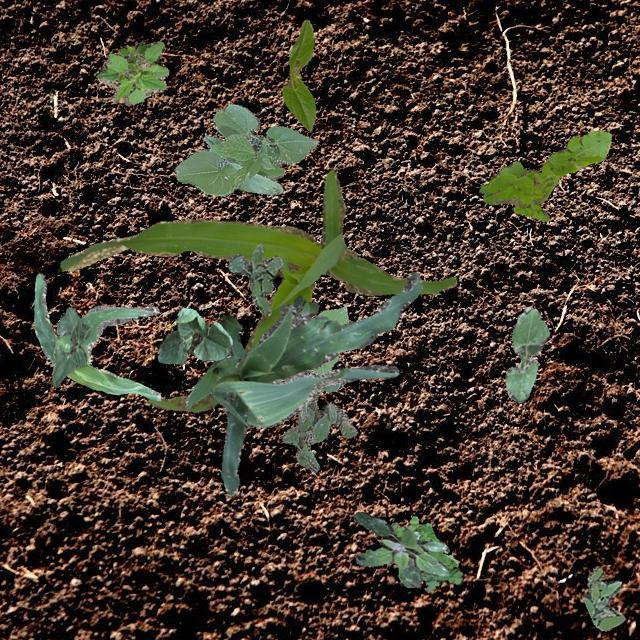crop: (59, 168, 456, 412), (210, 270, 422, 494), (32, 272, 160, 399), (174, 102, 318, 194), (183, 314, 246, 408), (504, 306, 548, 402), (157, 307, 230, 363), (282, 19, 314, 130), (51, 306, 88, 386), (312, 306, 348, 374)
weed: (478, 128, 610, 220), (352, 510, 448, 586), (282, 382, 356, 471), (390, 514, 460, 590), (96, 40, 168, 104), (228, 242, 282, 314), (580, 566, 624, 630), (278, 294, 318, 324)
